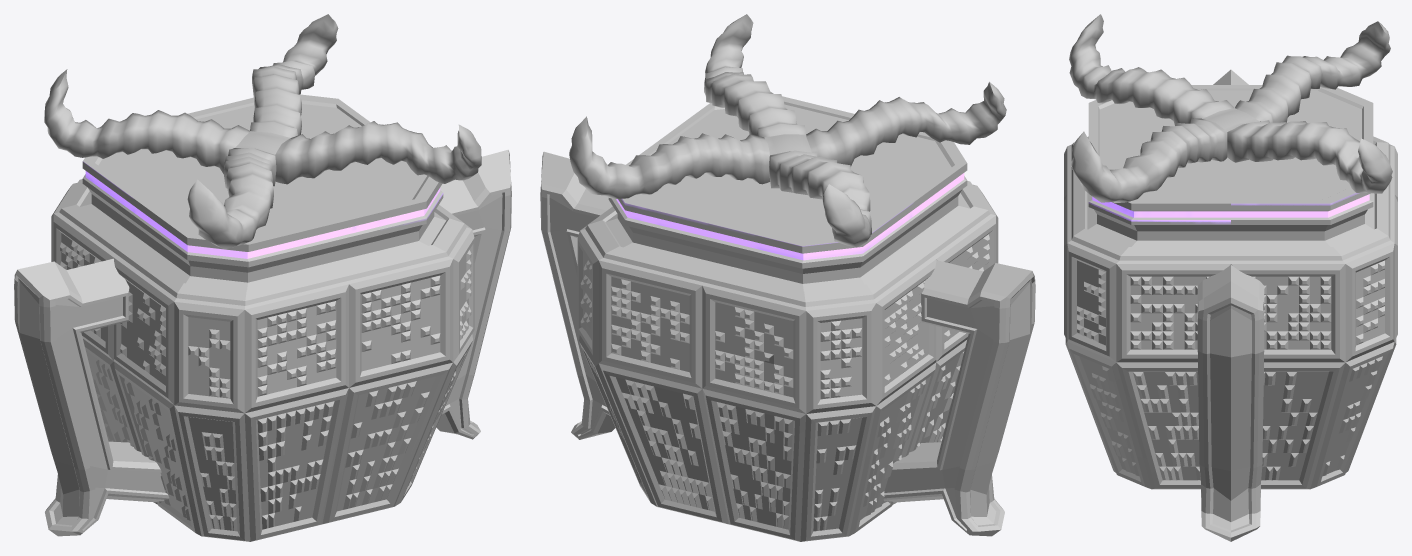
File: Abigail-Yaffe_Pandoras-Box-HighPoly - A S.fbx
The picture shows the model from 3 angles, left to right: view 1: azimuth 30°, elevation 25°; view 2: azimuth 150°, elevation 25°; view 3: azimuth 270°, elevation 25°; orthographic projection. The views are drawn at different scales.
Parts seen in each view (by area): view 1: Super_High, Handle_High, Horns_High; view 2: Super_High, Handle_High, Horns_High; view 3: Super_High, Horns_High, Handle_High.
Boxes of the visible parts, x1,y1,x2,y2 form: Super_High: (51,94,474,541); Handle_High: (14,149,511,536); Horns_High: (44,14,481,249); Super_High: (577,96,998,541); Handle_High: (540,151,1035,536); Horns_High: (569,14,1006,247); Super_High: (1064,85,1397,489); Horns_High: (1069,14,1392,203); Handle_High: (1197,69,1264,541).
Size of the model in its own units: 1.66 by 1.25 by 1.02.
